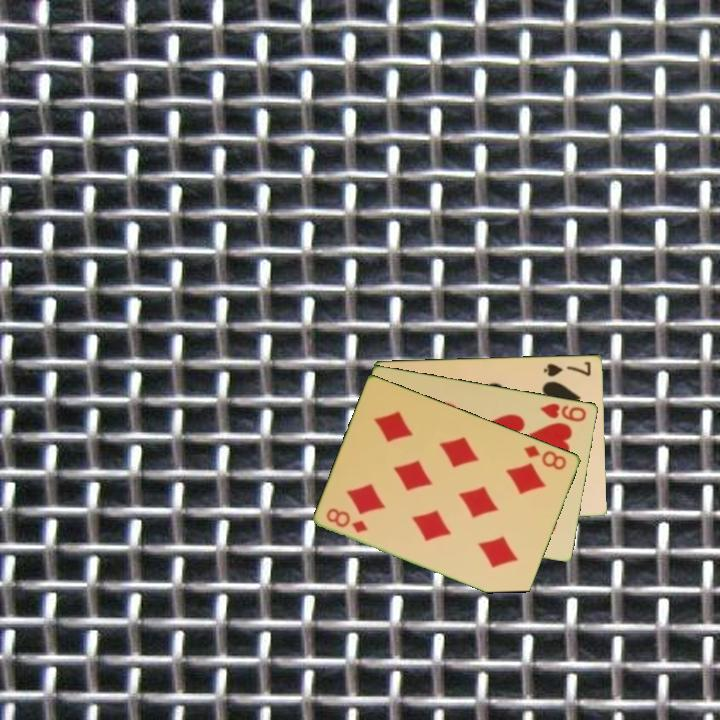7s: (540, 357, 594, 379)
8d: (521, 441, 570, 473), (323, 504, 371, 536)
9h: (537, 399, 589, 424)
